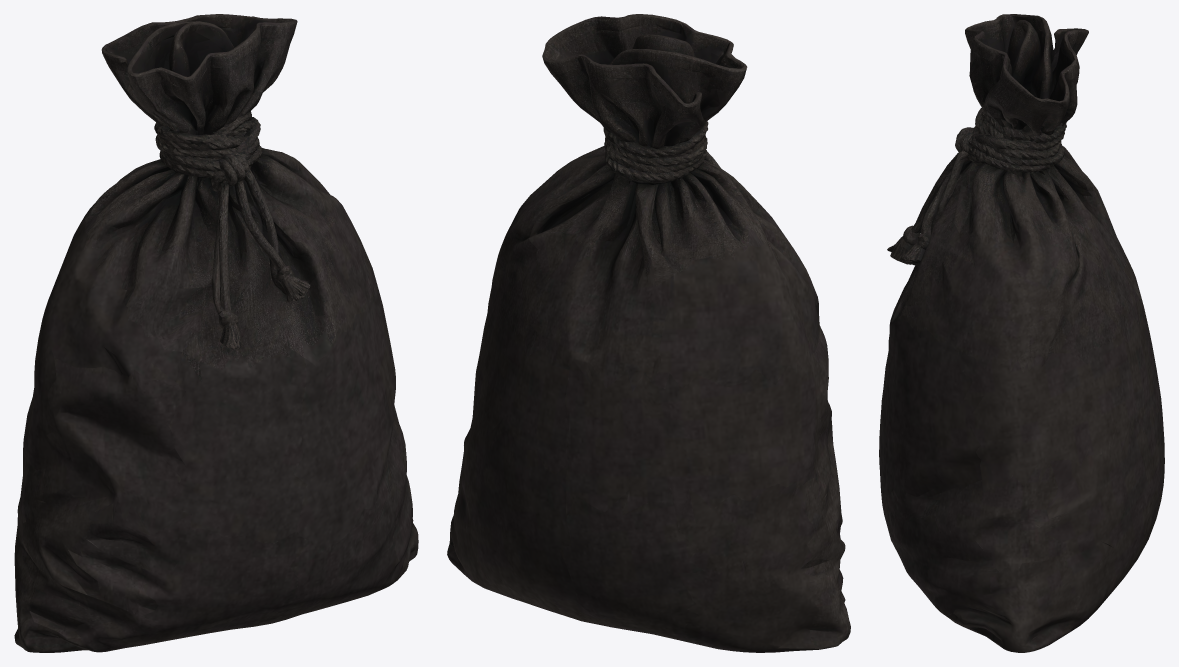
File: w5bagtied.glb
The picture shows the model from 3 angles, left to right: view 1: azimuth 30°, elevation 25°; view 2: azimuth 150°, elevation 25°; view 3: azimuth 270°, elevation 25°; orthographic projection. The views are drawn at different scales.
Visible parts, largest first — view 1: output_unwrapped; view 2: output_unwrapped; view 3: output_unwrapped.
Boxes of the visible parts, left/top/right/bottom form: output_unwrapped: left=14, top=14, right=418, bottom=652; output_unwrapped: left=447, top=14, right=850, bottom=652; output_unwrapped: left=879, top=14, right=1164, bottom=652.
Size of the model in its own units: 0.253 by 0.35 by 0.1703.
Materials: 1 (1 with a texture image).
